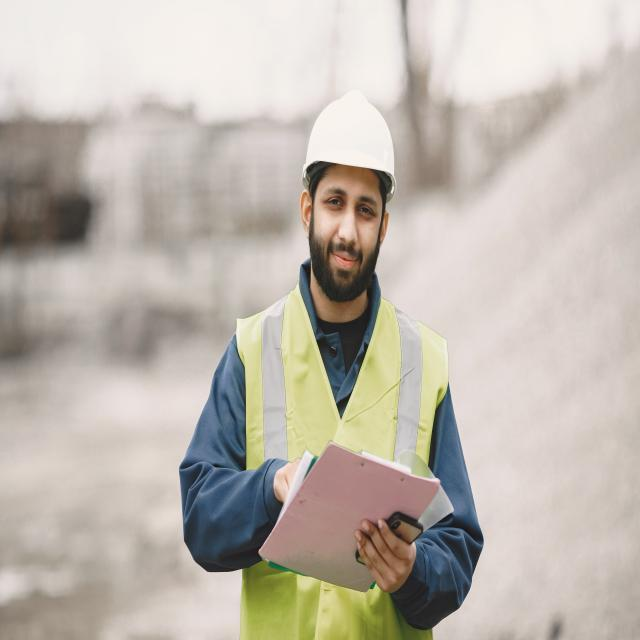helmet: (270, 83, 424, 201)
jacket: (249, 301, 457, 626)
